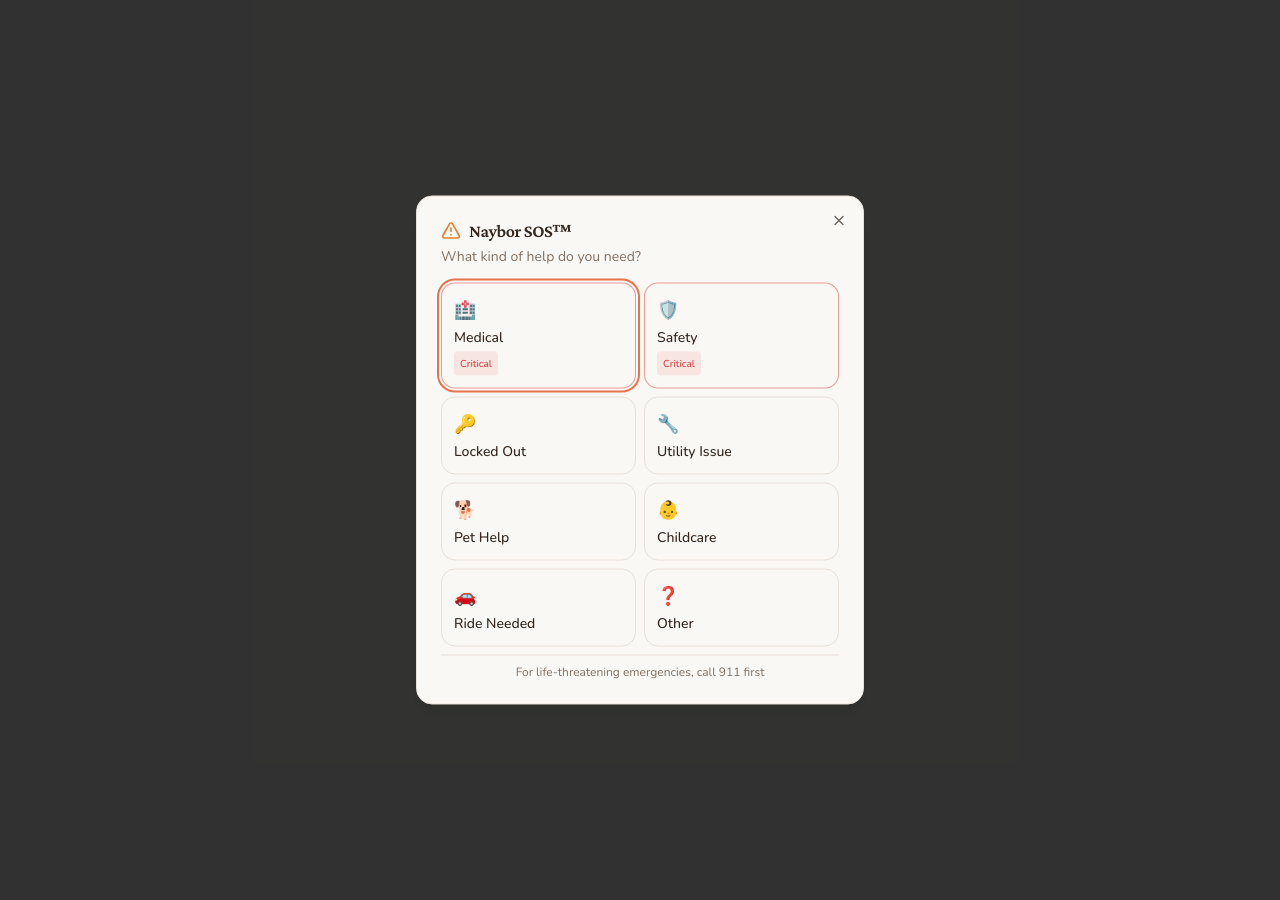
Scenario: NayborSOSDialog Component › should show suggested actions for selected category
The width and height of the screenshot is (1280, 900).
Click the button "🔑 Locked Out" at {"x": 538, "y": 436}, box [441,396,636,474]
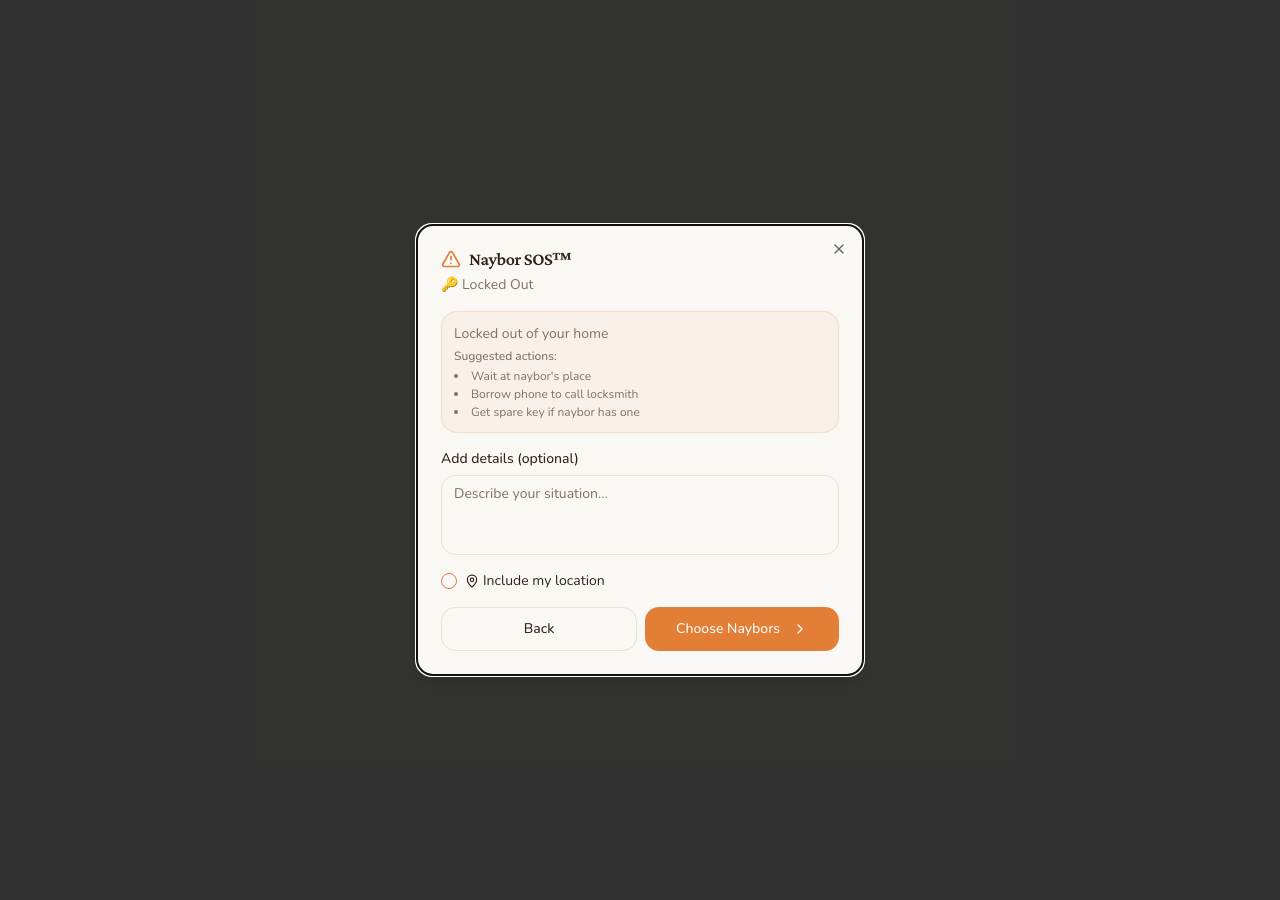
Result: the text "Suggested actions:" is shown at [454,348,557,364]
